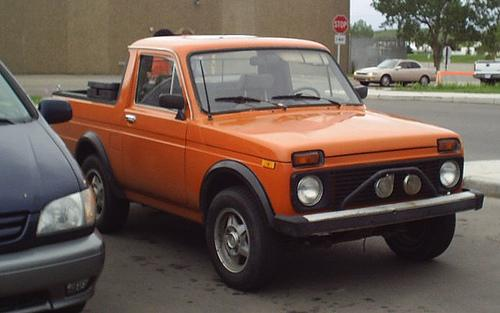truck: (31, 34, 484, 293)
